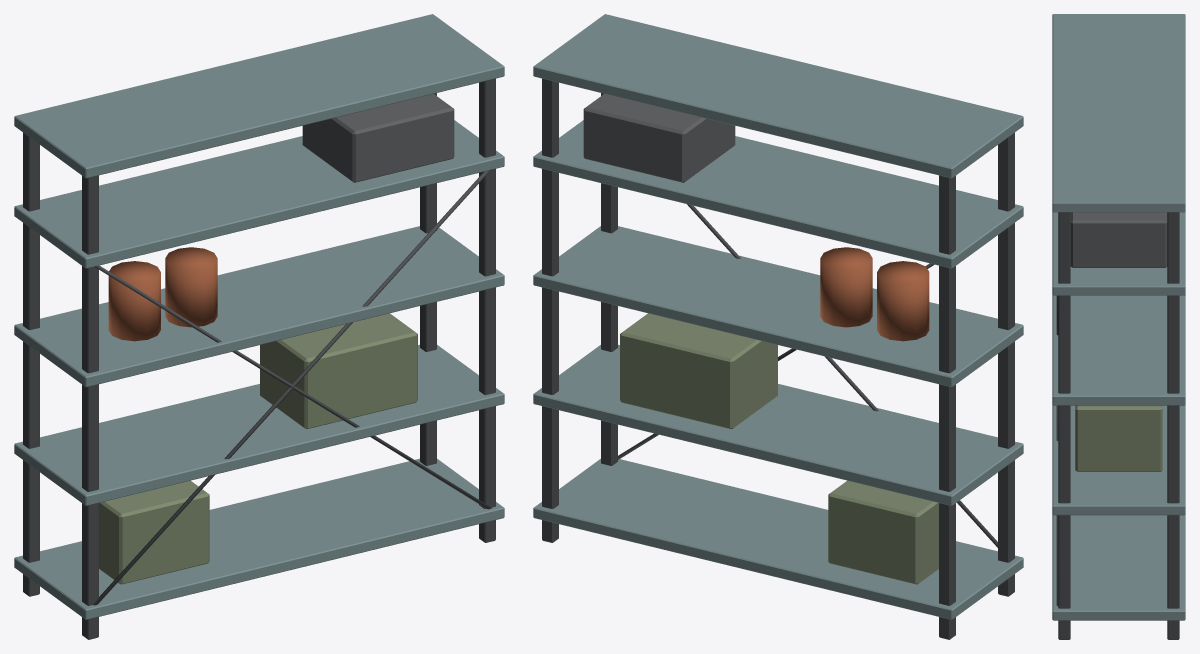
The model's file is shelf_unit.glb.
The picture shows the model from 3 angles, left to right: view 1: azimuth 30°, elevation 25°; view 2: azimuth 150°, elevation 25°; view 3: azimuth 270°, elevation 25°; orthographic projection. The views are drawn at different scales.
Parts seen in each view (by area): view 1: shelf_unit; view 2: shelf_unit; view 3: shelf_unit.
Boxes of the visible parts, box(x1,y1,x2,y2) form: shelf_unit: box(14, 14, 504, 639); shelf_unit: box(533, 14, 1023, 639); shelf_unit: box(1052, 14, 1185, 639).
Bounding box in the file's own units: 1.85 × 2.01 × 0.55.
